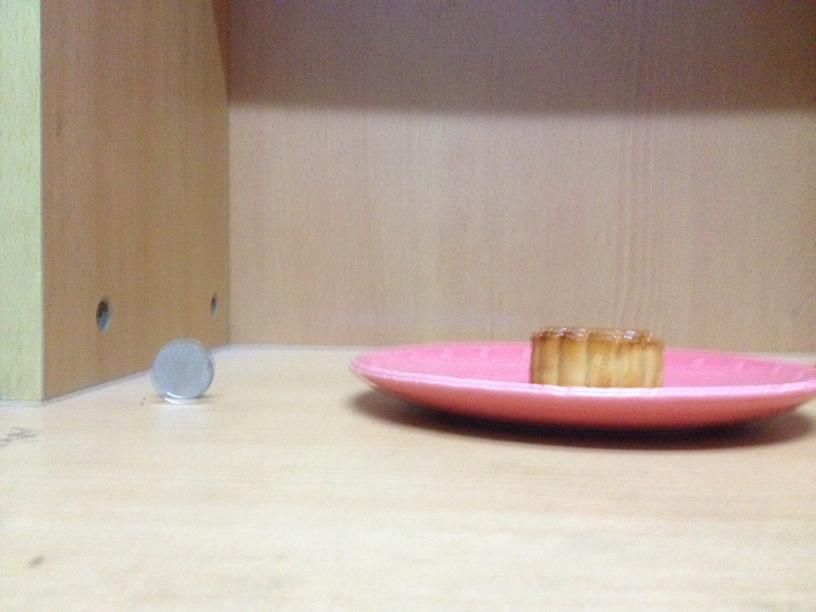coin: (148, 336, 215, 400)
mooncake: (525, 326, 664, 388)
